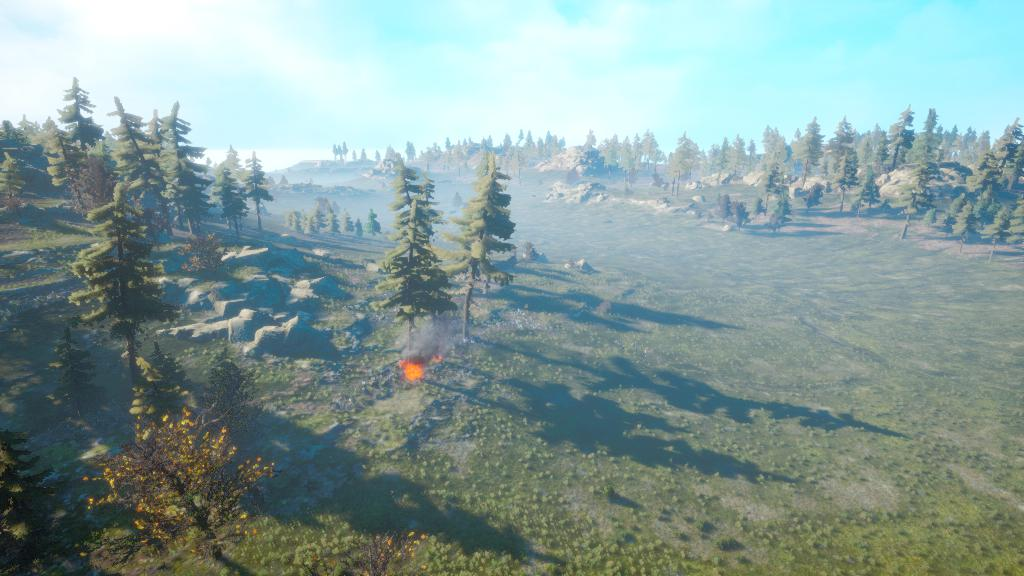Fire: (399, 359, 424, 382), (430, 351, 445, 365)
smoke: (400, 312, 467, 362)
